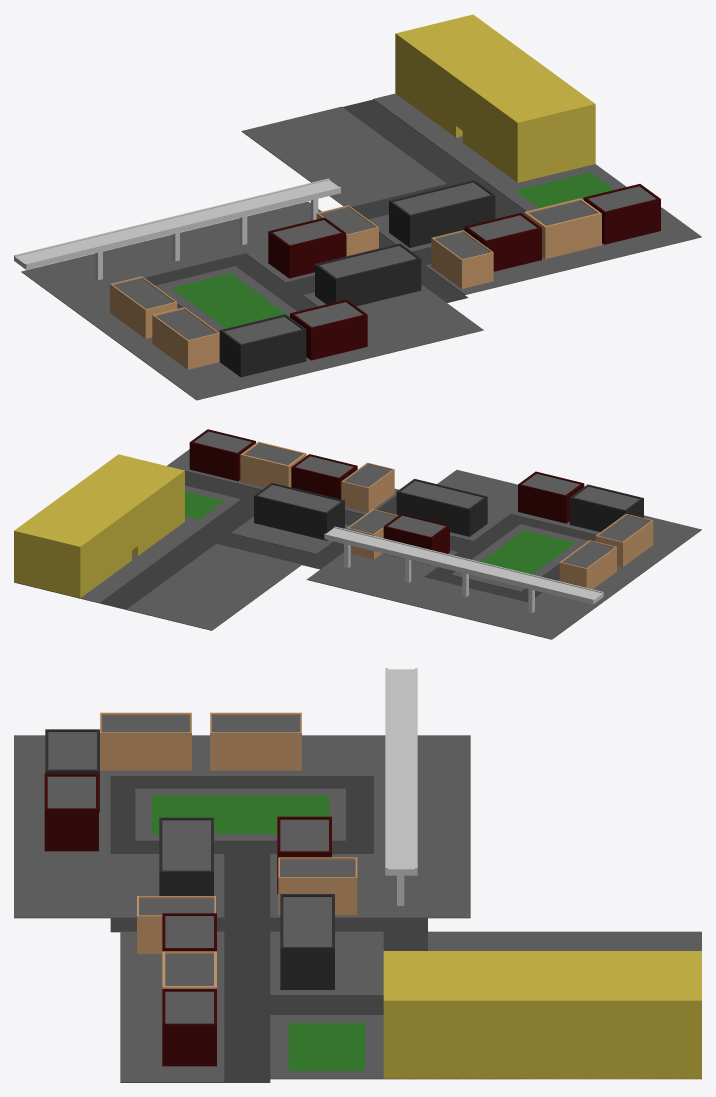
Rendered from ZenithCity.fbx.
The picture shows the model from 3 angles, top to bottom: view 1: azimuth 30°, elevation 25°; view 2: azimuth 150°, elevation 25°; view 3: azimuth 270°, elevation 25°; orthographic projection. The views are drawn at different scales.
Visible parts, largest first — view 1: DepartmentStore, Sidewalk.008, Road, Sidewalk.003, Bridge, Sidewalk.004, Sidewalk.007, Sidewalk.002, BulidingRedBrick.001, SquarePavement, BulidingRedBrick.005, BulidingRedBrick.003 (+11 smaller); view 2: DepartmentStore, Road, Sidewalk.008, Sidewalk.004, Bridge, Sidewalk.003, SquarePavement, BulidingRedBrick.005, Sidewalk.007, BulidingRedBrick.001, BulidingRedBrick.003, BulidingRedBrick.002 (+13 smaller); view 3: DepartmentStore, Road, Sidewalk.004, Sidewalk.002, Sidewalk.003, SquarePavement, Sidewalk.005, Sidewalk.007, Bridge, Sidewalk.008, BuildingTupertine.002, BuildingTupertine.001 (+13 smaller).
Boxes of the visible parts, x1=… form: DepartmentStore: x1=395, y1=14, x2=595, y2=182; Sidewalk.008: x1=241, y1=106, x2=446, y2=207; Road: x1=145, y1=99, x2=525, y2=311; Sidewalk.003: x1=21, y1=256, x2=260, y2=400; Bridge: x1=14, y1=178, x2=340, y2=280; Sidewalk.004: x1=86, y1=201, x2=321, y2=281; Sidewalk.007: x1=373, y1=93, x2=626, y2=211; Sidewalk.002: x1=249, y1=302, x2=483, y2=384; BulidingRedBrick.001: x1=315, y1=243, x2=421, y2=306; SquarePavement: x1=155, y1=266, x2=296, y2=332; BulidingRedBrick.005: x1=389, y1=180, x2=495, y2=247; BulidingRedBrick.003: x1=219, y1=314, x2=306, y2=377; DepartmentStore: x1=14, y1=454, x2=184, y2=598; Road: x1=100, y1=471, x2=595, y2=609; Sidewalk.008: x1=126, y1=544, x2=301, y2=630; Sidewalk.004: x1=306, y1=556, x2=528, y2=626; Bridge: x1=324, y1=526, x2=603, y2=613; Sidewalk.003: x1=497, y1=516, x2=701, y2=639; SquarePavement: x1=451, y1=524, x2=588, y2=591; BulidingRedBrick.005: x1=254, y1=482, x2=344, y2=540; Sidewalk.007: x1=14, y1=485, x2=240, y2=603; BulidingRedBrick.001: x1=396, y1=478, x2=487, y2=536; BulidingRedBrick.003: x1=569, y1=484, x2=643, y2=532; BulidingRedBrick.002: x1=518, y1=471, x2=584, y2=523; DepartmentStore: x1=383, y1=951, x2=701, y2=1079; Road: x1=110, y1=777, x2=427, y2=1082; Sidewalk.004: x1=374, y1=776, x2=470, y2=918; Sidewalk.002: x1=14, y1=776, x2=110, y2=918; Sidewalk.003: x1=14, y1=735, x2=470, y2=776; SquarePavement: x1=135, y1=788, x2=345, y2=841; Sidewalk.005: x1=120, y1=931, x2=224, y2=1082; Sidewalk.007: x1=270, y1=1015, x2=701, y2=1079; Bridge: x1=385, y1=668, x2=417, y2=905; Sidewalk.008: x1=428, y1=931, x2=701, y2=950; BuildingTupertine.002: x1=210, y1=712, x2=301, y2=770; BuildingTupertine.001: x1=100, y1=712, x2=191, y2=770.
Size of what is drawn, in the model's own units: 23485 by 2372 by 18737.
